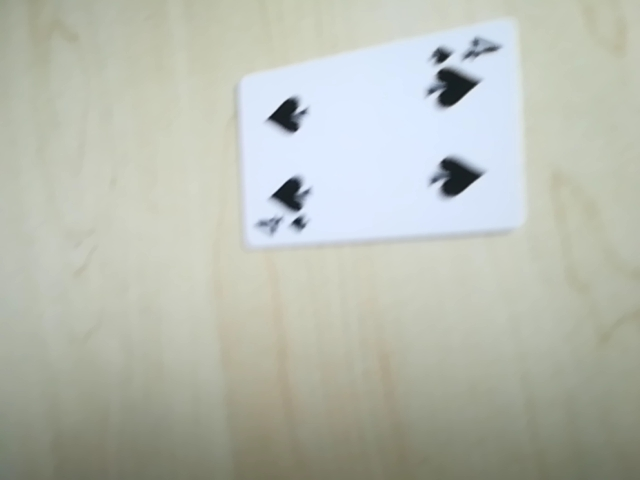ht 4: (427, 30, 504, 68), (248, 203, 313, 246)
